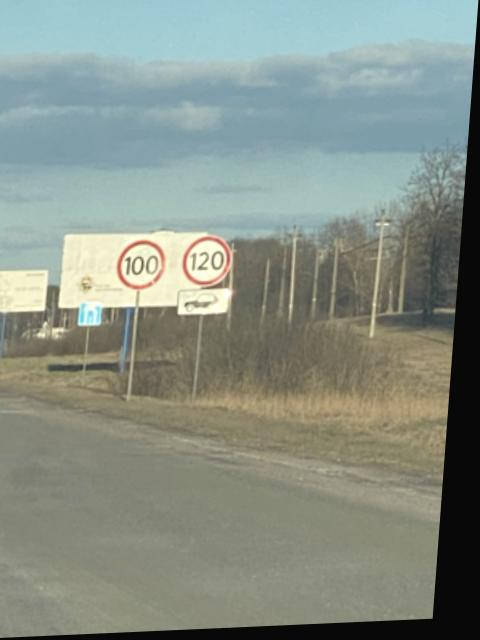limit100: (113, 235, 171, 296)
limit120: (179, 236, 243, 294)
